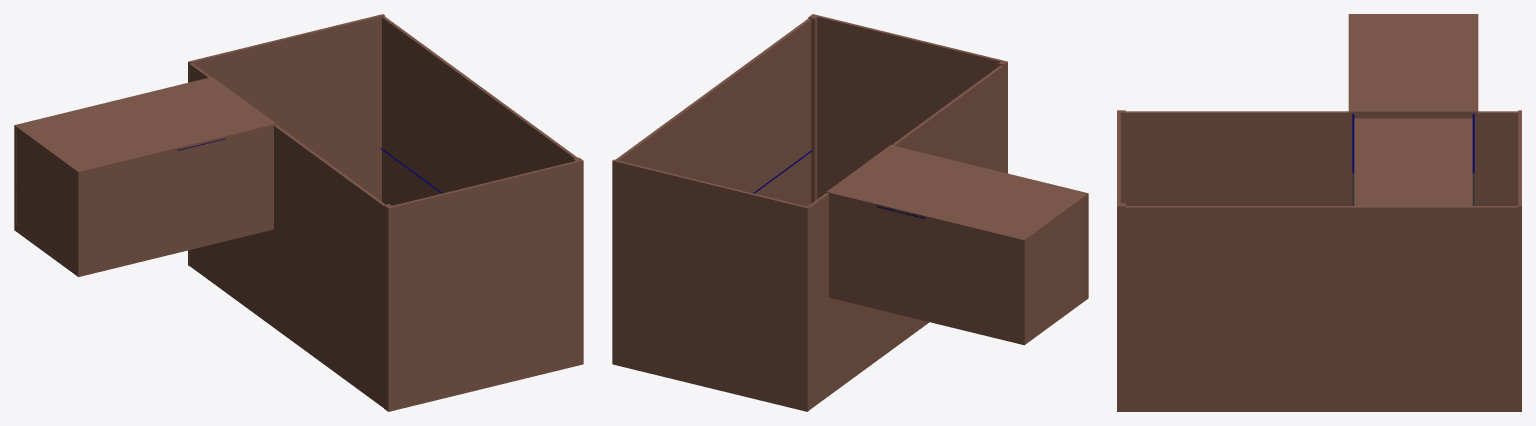
File: WallsFBX.fbx
The picture shows the model from 3 angles, left to right: view 1: azimuth 30°, elevation 25°; view 2: azimuth 150°, elevation 25°; view 3: azimuth 270°, elevation 25°; orthographic projection.
Visible parts, largest first — view 1: WaLLs; view 2: WaLLs; view 3: WaLLs.
Part boxes in pixels (x1,y1,x2,y2): WaLLs: (14, 14, 583, 411); WaLLs: (612, 14, 1088, 411); WaLLs: (1117, 14, 1521, 411).
Bounding box in the file's own units: 3447 × 1718 × 3065.
